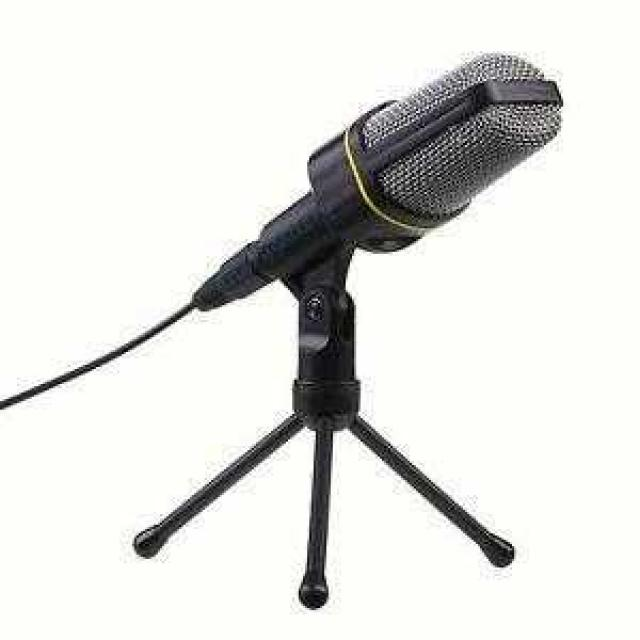microphone: (194, 56, 553, 309)
